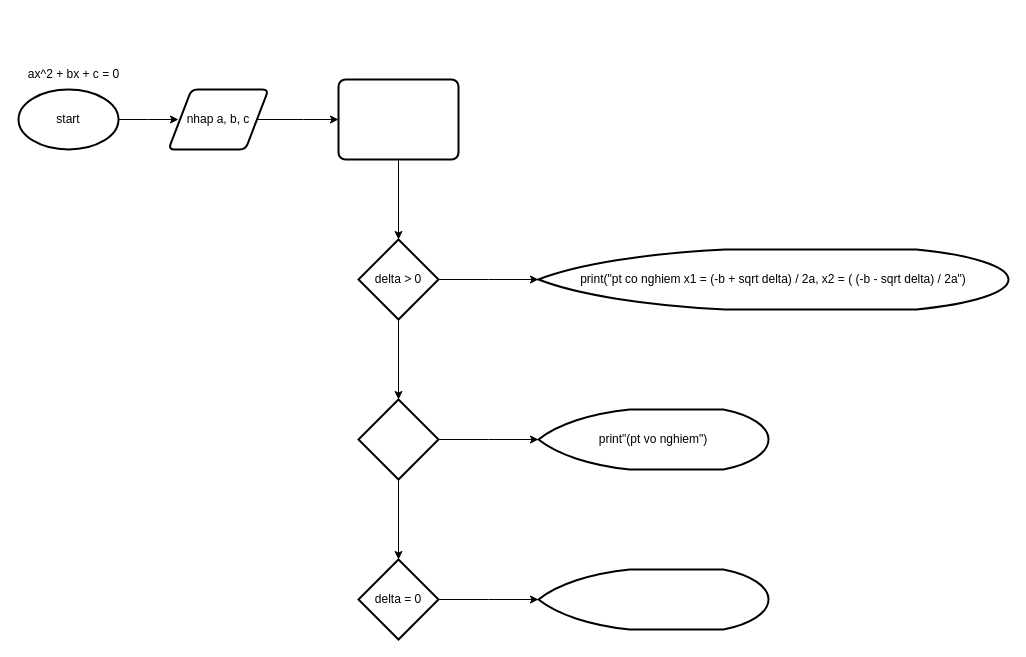
Image size: 1026x657. Some labels were removed from this diagram. The centre of each missing label's shape, as x and y in pixels:
delta < 0: (398,439)
delta = b^2 - 4*a*c: (398,119)
print("pt co nghiem kep x1 = x2 = -b/a"): (653,599)
